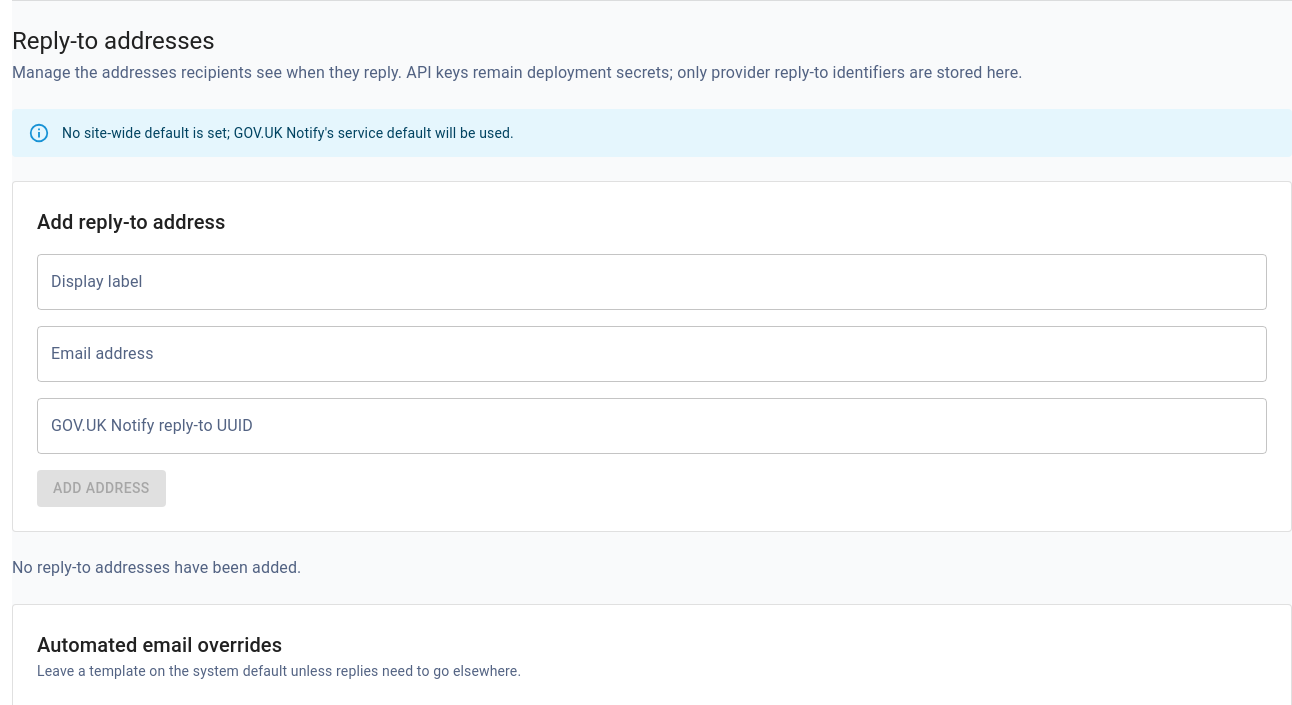
Test: NotifyReplyToSettings › keeps the entered address visible when creation fails
The image size is (1292, 705).
Type "Membership" into the field labelled "Display label" at (652, 282), box [37, 254, 1267, 310]
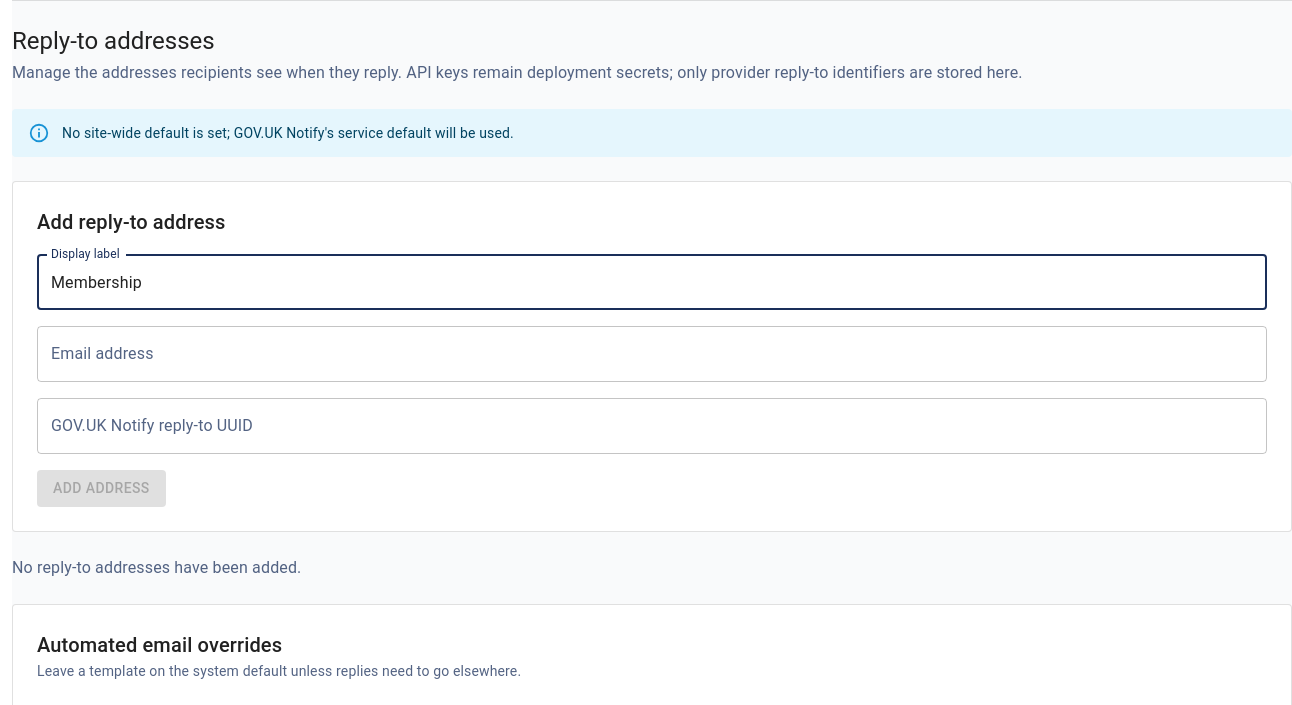
Type "members@example.com" into the field labelled "Email address" at (652, 354), box [37, 326, 1267, 382]
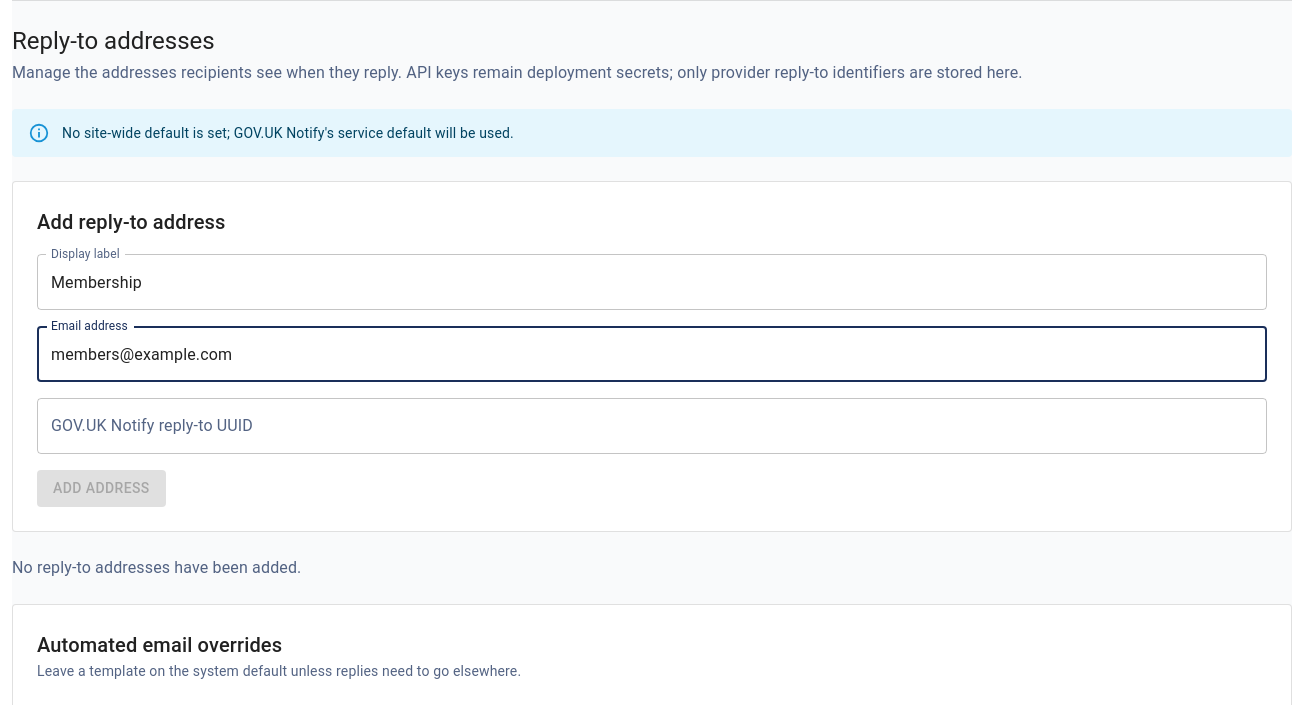
Type "notify-uuid" into the field labelled "GOV.UK Notify reply-to UUID" at (652, 426), box [37, 398, 1267, 454]
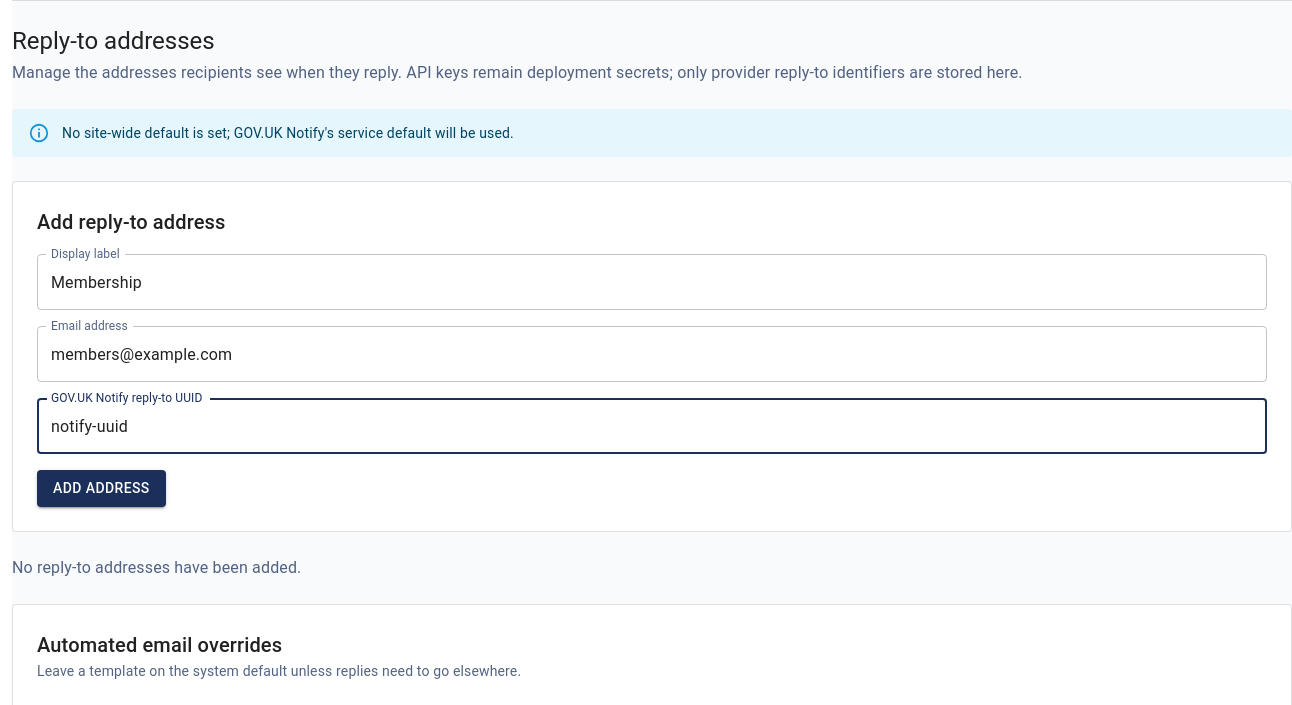
Click the button "Add address" at (101, 488), box [37, 470, 166, 506]
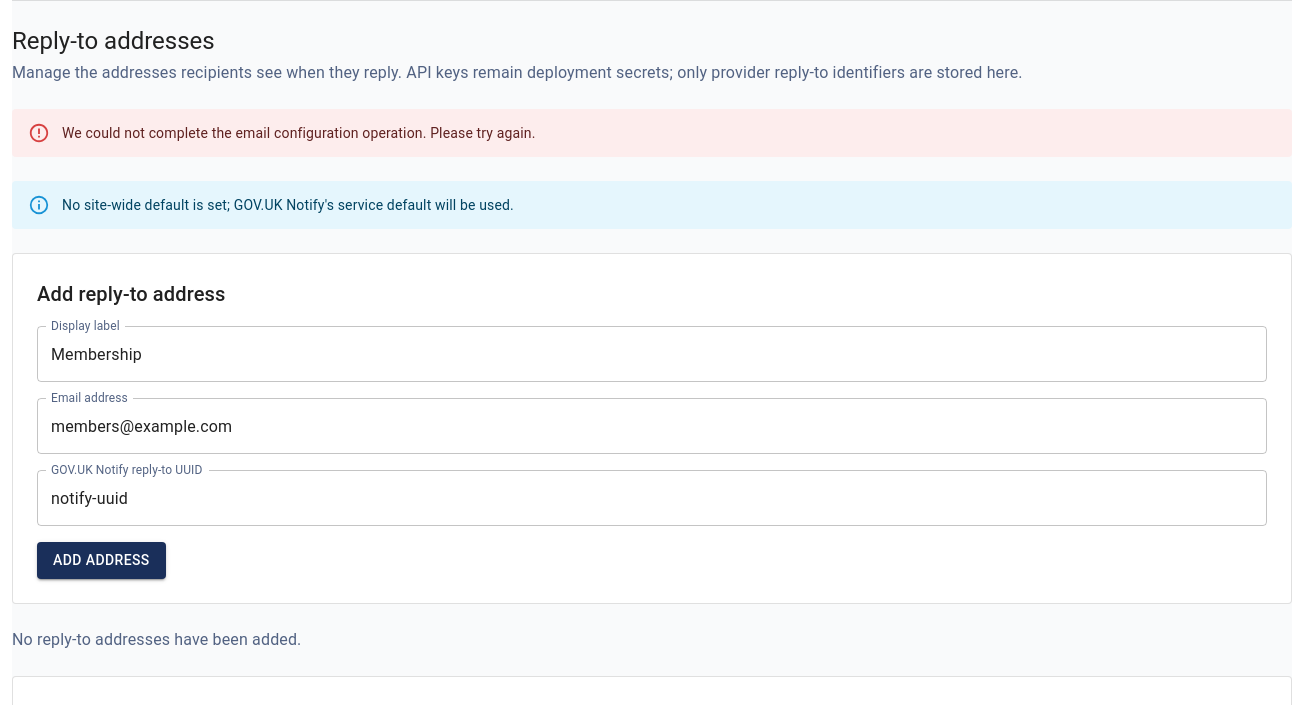
Now the text "We could not complete the email configuration operation. Please try again." is shown, box [62, 125, 536, 141]
